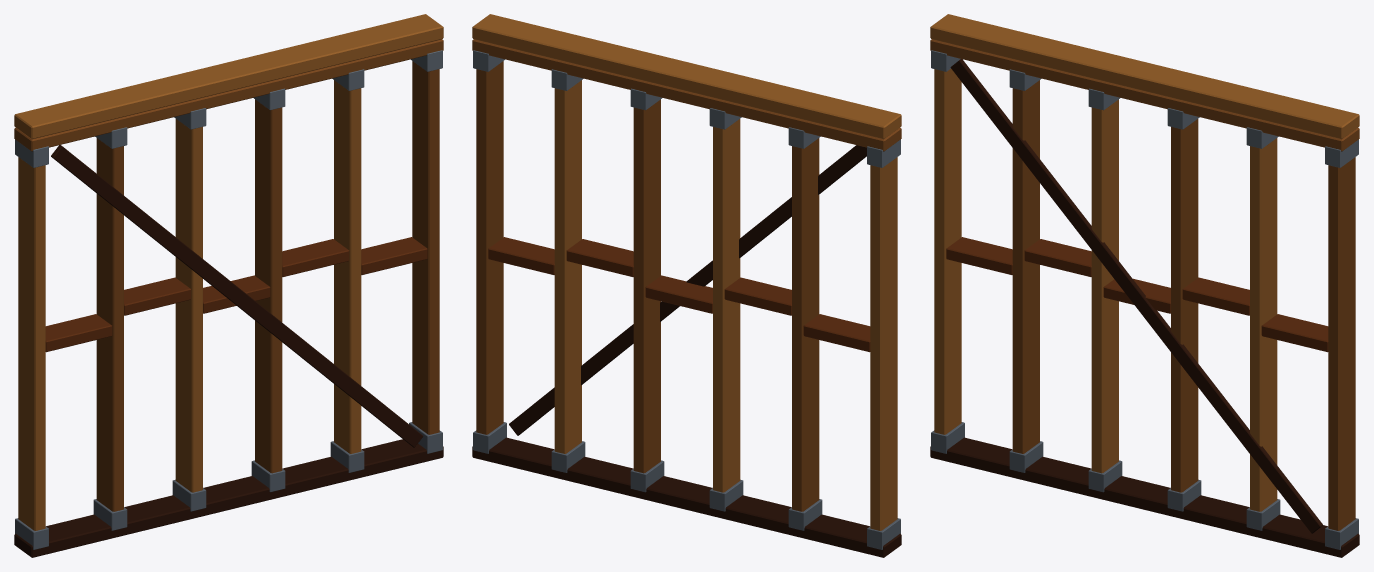
File: mod_platform_stud_frame_2x2m.glb
The picture shows the model from 3 angles, left to right: view 1: azimuth 30°, elevation 25°; view 2: azimuth 150°, elevation 25°; view 3: azimuth 330°, elevation 25°; orthographic projection.
Visible parts, largest first — view 1: Mod_Platform_Stud_Frame_2x2m; view 2: Mod_Platform_Stud_Frame_2x2m; view 3: Mod_Platform_Stud_Frame_2x2m.
Boxes of the visible parts, <box> form: Mod_Platform_Stud_Frame_2x2m: <box>14,14,443,557</box>; Mod_Platform_Stud_Frame_2x2m: <box>472,14,901,557</box>; Mod_Platform_Stud_Frame_2x2m: <box>930,14,1359,557</box>.
Size of the model in its own units: 2 by 2 by 0.158.
